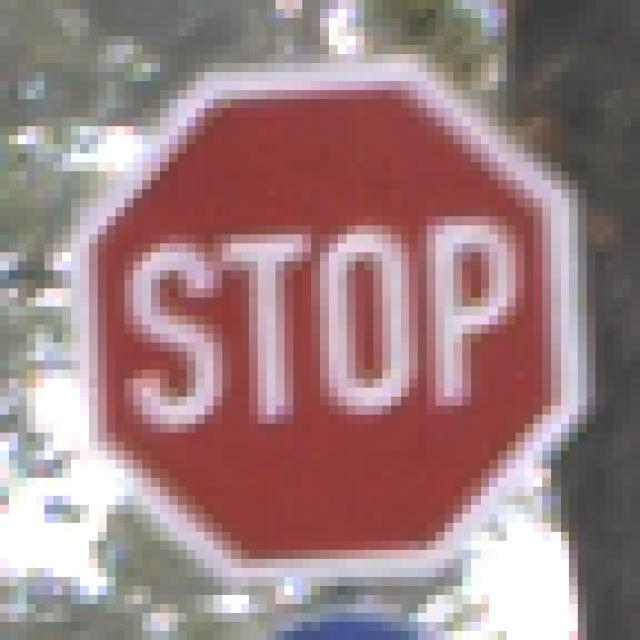STOP: (63, 55, 588, 587)
